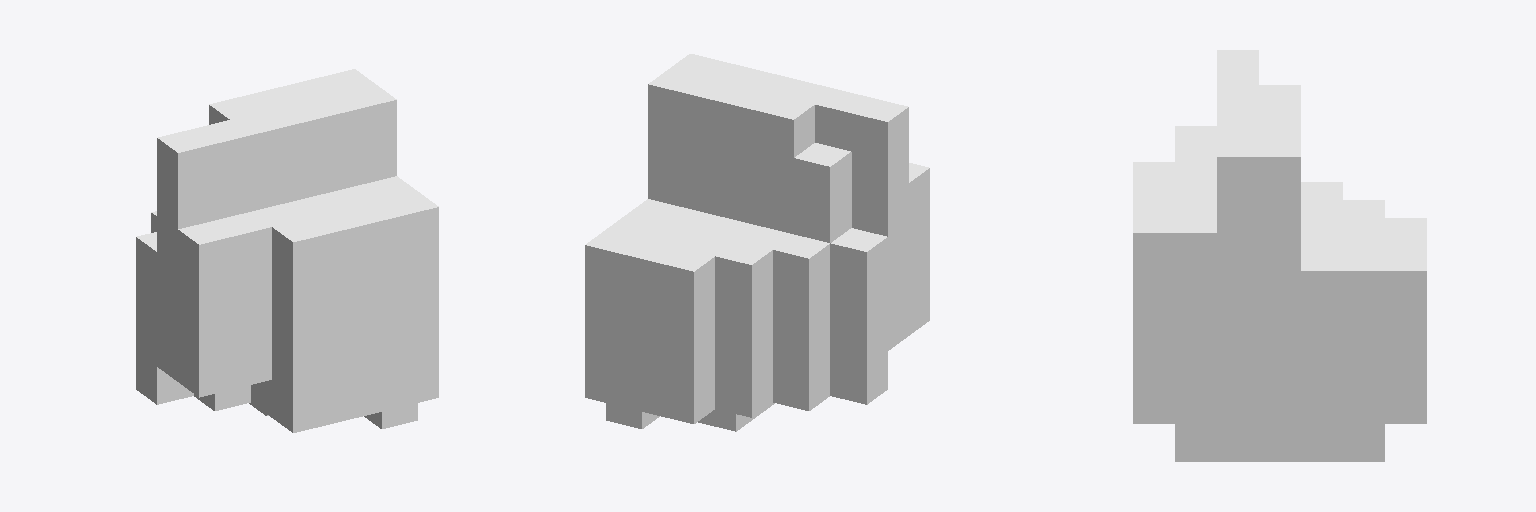
Rendered from Koala_G.obj.
3 renders of one model, left to right at view 1: azimuth 30°, elevation 25°; view 2: azimuth 150°, elevation 25°; view 3: azimuth 270°, elevation 25°, orthographic.
Parts seen in each view (by area): view 1: object 1; view 2: object 1; view 3: object 1.
Boxes of the visible parts, x1=… form: object 1: x1=136, y1=69, x2=438, y2=432; object 1: x1=585, y1=54, x2=929, y2=431; object 1: x1=1133, y1=50, x2=1426, y2=461.
Bounding box in the file's own units: 0.6 × 0.8 × 0.7.